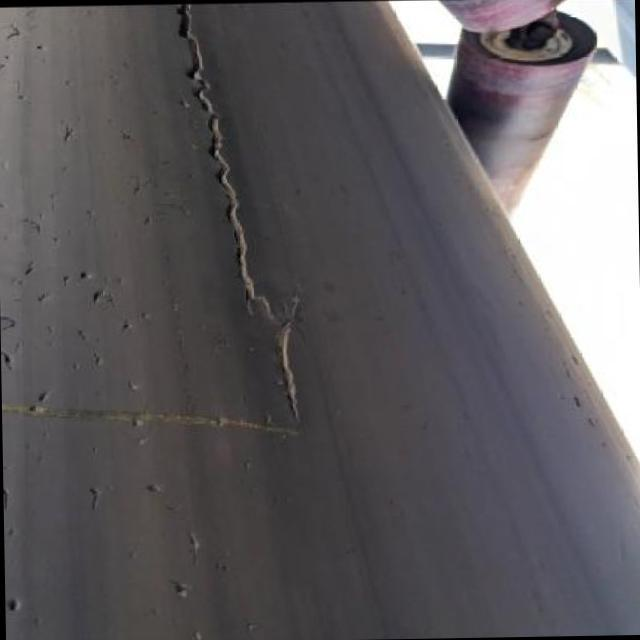Puncture: (168, 578, 194, 596), (60, 122, 78, 145), (0, 348, 16, 371), (89, 287, 107, 307), (3, 598, 24, 615), (74, 265, 91, 285), (171, 94, 192, 110), (126, 412, 146, 428), (34, 393, 48, 404), (26, 404, 36, 416)
Tear: (168, 2, 304, 424), (0, 396, 304, 444), (180, 520, 203, 567), (80, 480, 104, 513)
